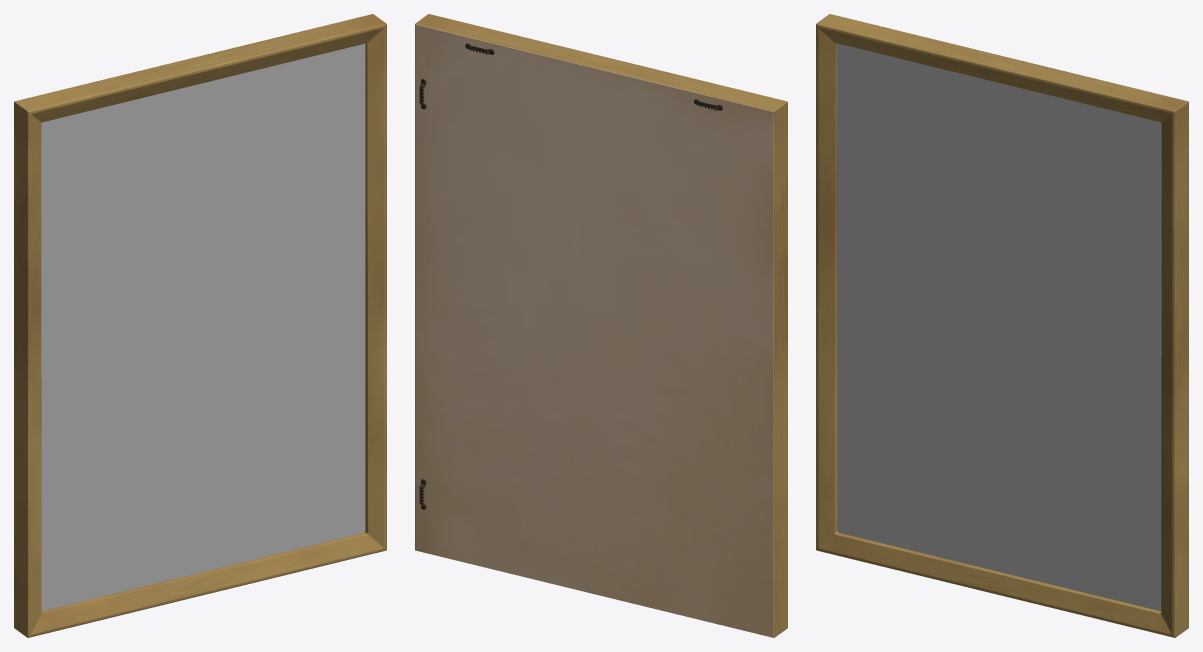
The model's file is abo-B07RSSY315.glb.
The picture shows the model from 3 angles, left to right: view 1: azimuth 30°, elevation 25°; view 2: azimuth 150°, elevation 25°; view 3: azimuth 330°, elevation 25°; orthographic projection.
Size of the model in its own units: 0.507 by 0.71 by 0.039.
1 material, 1 textured.
